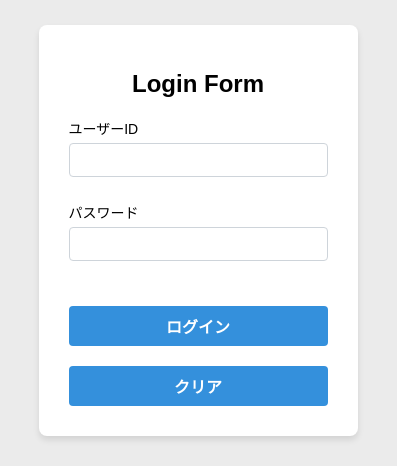
Test: [ログイン-異常系]ログインができないこと › 2-1:誤ったIDを入力した場合
The image size is (397, 466).
// ID:誤、PW:正
Step 1. Type "invalid" into the field labelled "ユーザーID" → coordinates (198, 160), box [68,142,328,176]
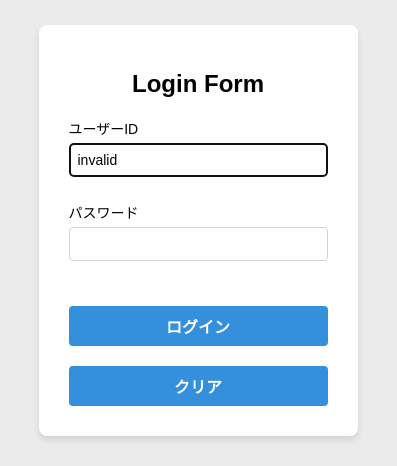
Step 2. Type "123456" into the password field labelled "パスワード" → coordinates (198, 244), box [68,226,328,260]
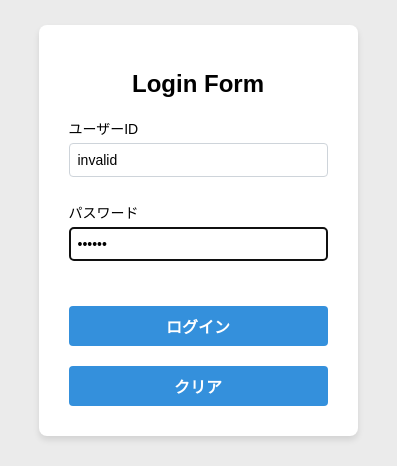
// ログインボタン押下
Step 3. Click the button "ログイン" → coordinates (198, 326), box [68,306,328,346]
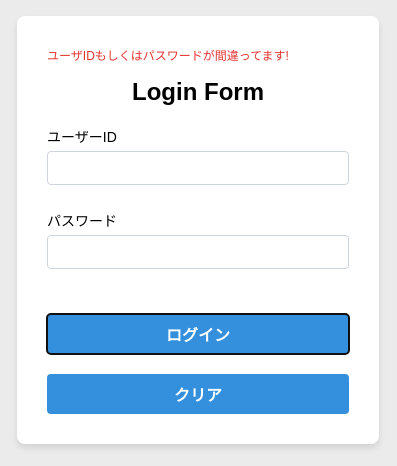
Expected: the text "ユーザIDもしくはパスワードが間違ってます!" is shown, [47,49,289,63]
